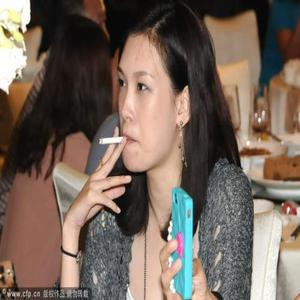cigarette: (96, 137, 128, 144)
